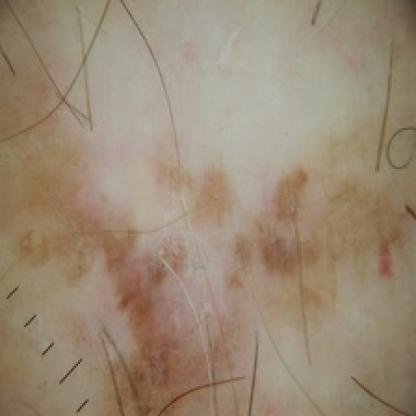malignant: (67, 217, 288, 390)
